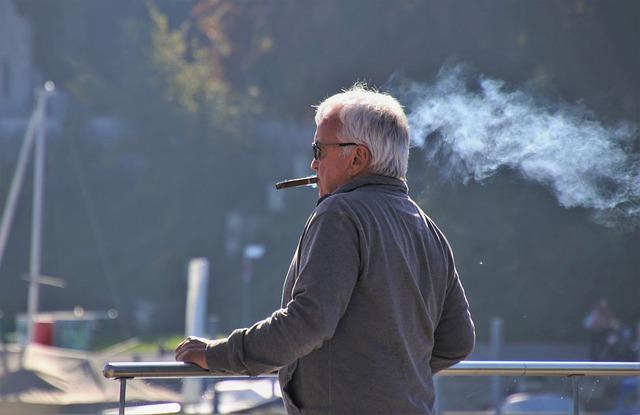smoker: (228, 29, 628, 415)
